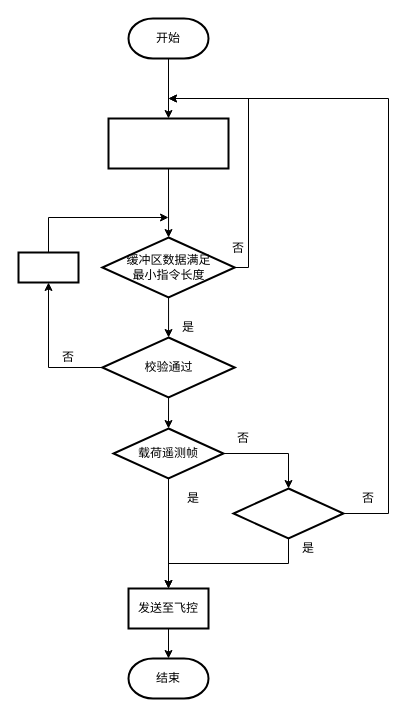
Some shapes in this 414 by 716 pixel diagram are drawn without their labels. The centre of each missing label's shape, as x and y in pixels:
协同下行数据: point 288,513
舍弃帧头: point 48,267
载荷、协同软件发送数据 存入环形缓冲区: point 168,143
